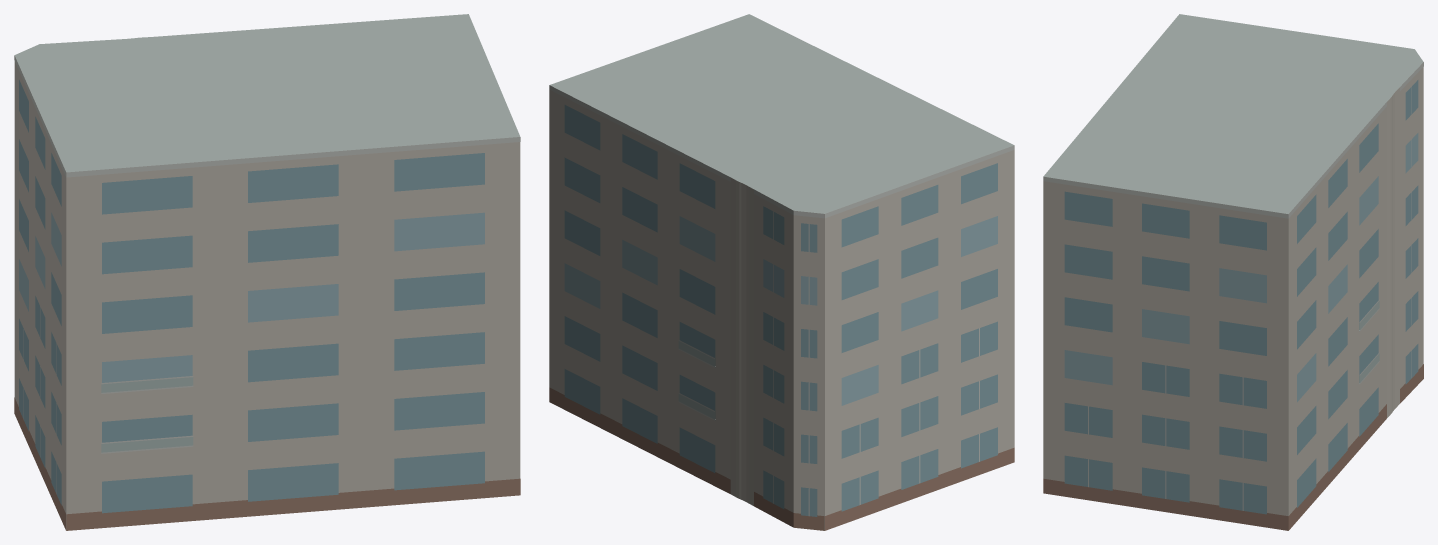
The model's file is survey-upis-32885024.glb.
The picture shows the model from 3 angles, left to right: view 1: azimuth 30°, elevation 25°; view 2: azimuth 150°, elevation 25°; view 3: azimuth 270°, elevation 25°; orthographic projection. The views are drawn at different scales.
Visible parts, largest first — view 1: survey-upis-32885024.tmp; view 2: survey-upis-32885024.tmp; view 3: survey-upis-32885024.tmp.
Boxes of the visible parts, x1,y1,x2,y2 form: survey-upis-32885024.tmp: (14, 14, 520, 530); survey-upis-32885024.tmp: (549, 14, 1014, 530); survey-upis-32885024.tmp: (1043, 14, 1423, 530).
Bounding box in the file's own units: 23.32 × 17.2 × 18.74.
